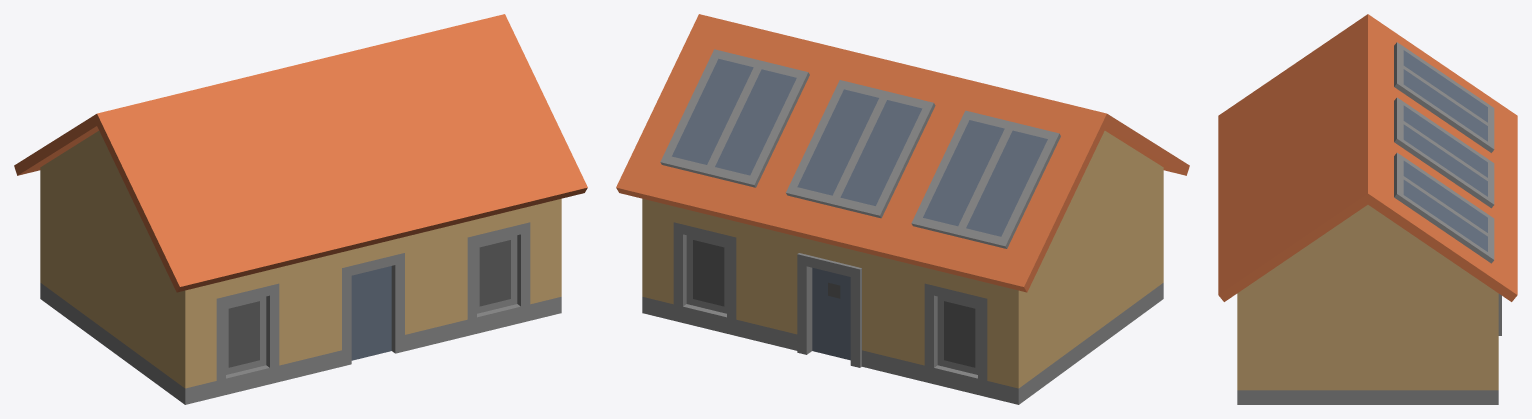
File: SM_Suburb_House.fbx
The picture shows the model from 3 angles, left to right: view 1: azimuth 30°, elevation 25°; view 2: azimuth 150°, elevation 25°; view 3: azimuth 270°, elevation 25°; orthographic projection. The views are drawn at different scales.
Visible parts, largest first — view 1: SM_Suburb_House; view 2: SM_Suburb_House; view 3: SM_Suburb_House.
Part boxes in pixels (x1,y1,x2,y2): SM_Suburb_House: (14, 14, 587, 404); SM_Suburb_House: (616, 14, 1189, 404); SM_Suburb_House: (1218, 14, 1517, 404).
Size of the model in its own units: 936 by 531 by 660.
